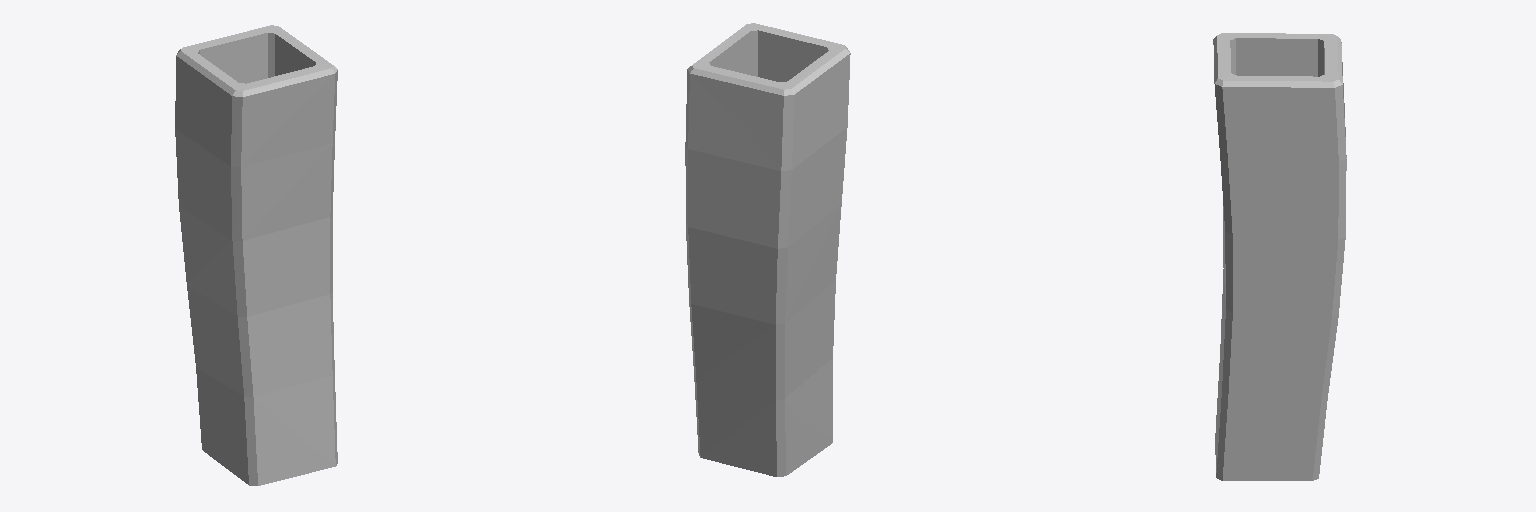
File: Chamine.obj
3 views of the same model, side by side, from view 1: azimuth 30°, elevation 25°; view 2: azimuth 150°, elevation 25°; view 3: azimuth 270°, elevation 25° (orthographic).
Parts seen in each view (by area): view 1: komin; view 2: komin; view 3: komin.
Part boxes in pixels (bbox=[...]): komin: bbox=[175, 25, 337, 485]; komin: bbox=[685, 23, 850, 476]; komin: bbox=[1213, 33, 1346, 480].
Size of the model in its own units: 0.0069 by 0.0246 by 0.0075.